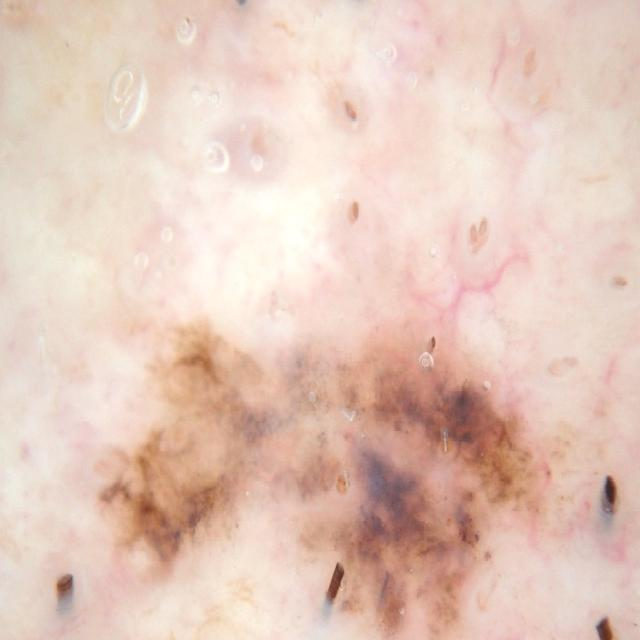Melanoma: (95, 245, 536, 640)
